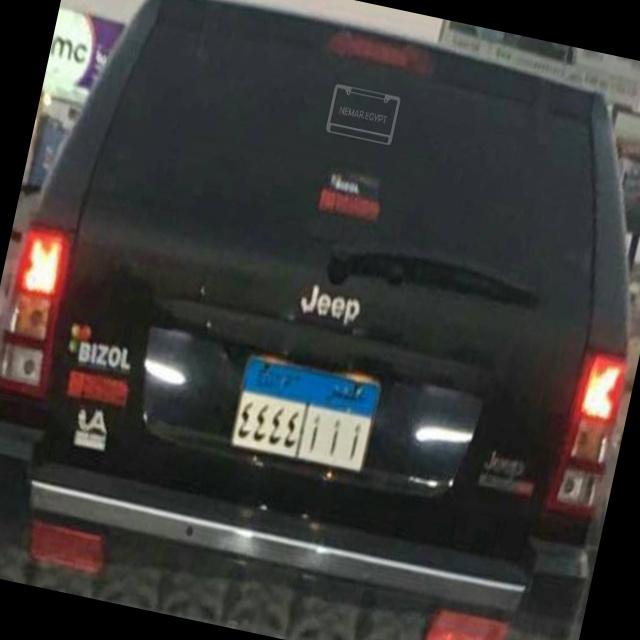License Plate: (221, 345, 390, 482)
